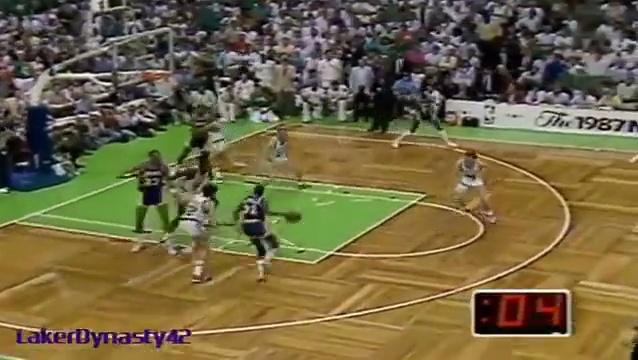Backboard: (112, 27, 175, 90)
Ball: (287, 211, 300, 223)
Basket: (148, 70, 176, 97)
Person: (233, 176, 285, 283), (126, 148, 176, 257), (179, 182, 219, 285), (456, 143, 498, 221), (400, 87, 452, 149), (260, 118, 300, 194), (207, 110, 242, 178), (180, 106, 211, 159), (171, 156, 212, 194)
Shot Clock: (476, 293, 567, 334)
